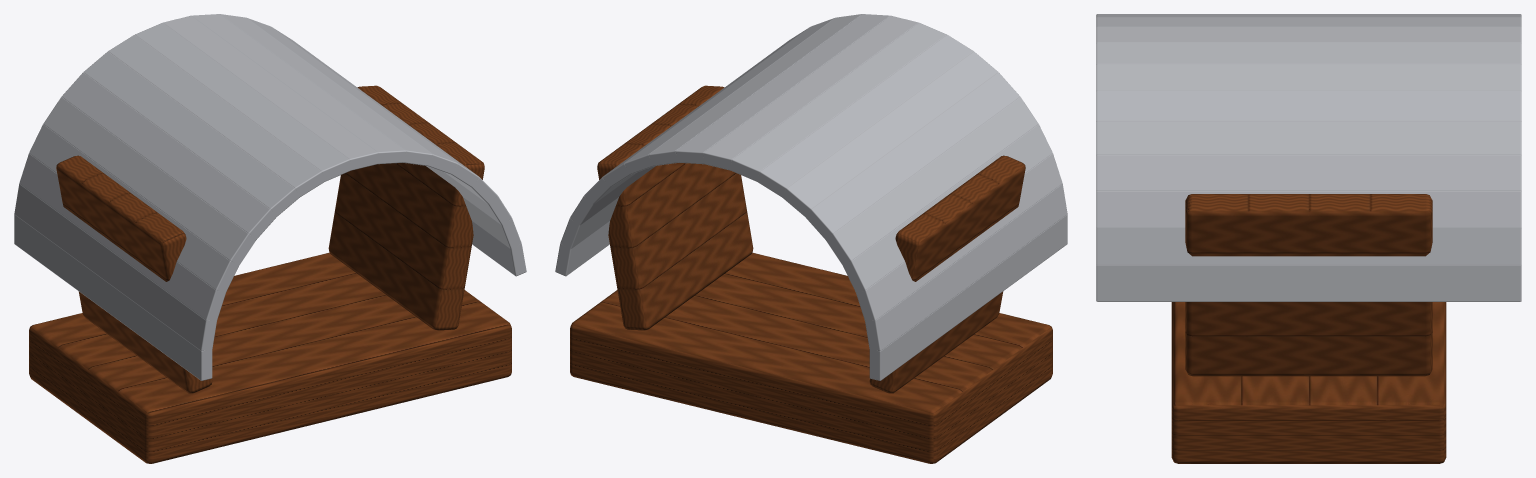
The model's file is printing-press-and-newspaper-office-stereotype-curved--82233f84__37744.glb.
3 views of the same model, side by side, from view 1: azimuth 30°, elevation 25°; view 2: azimuth 150°, elevation 25°; view 3: azimuth 270°, elevation 25° (orthographic). The views are drawn at different scales.
Parts seen in each view (by area): view 1: stereotype-curved-plate; view 2: stereotype-curved-plate; view 3: stereotype-curved-plate.
Boxes of the visible parts, x1,y1,x2,y2 form: stereotype-curved-plate: (14,14,526,463); stereotype-curved-plate: (555,14,1067,463); stereotype-curved-plate: (1096,14,1521,463).
Size of the model in its own units: 0.7 by 0.531 by 0.62.
Materials: 2 (1 with a texture image).
